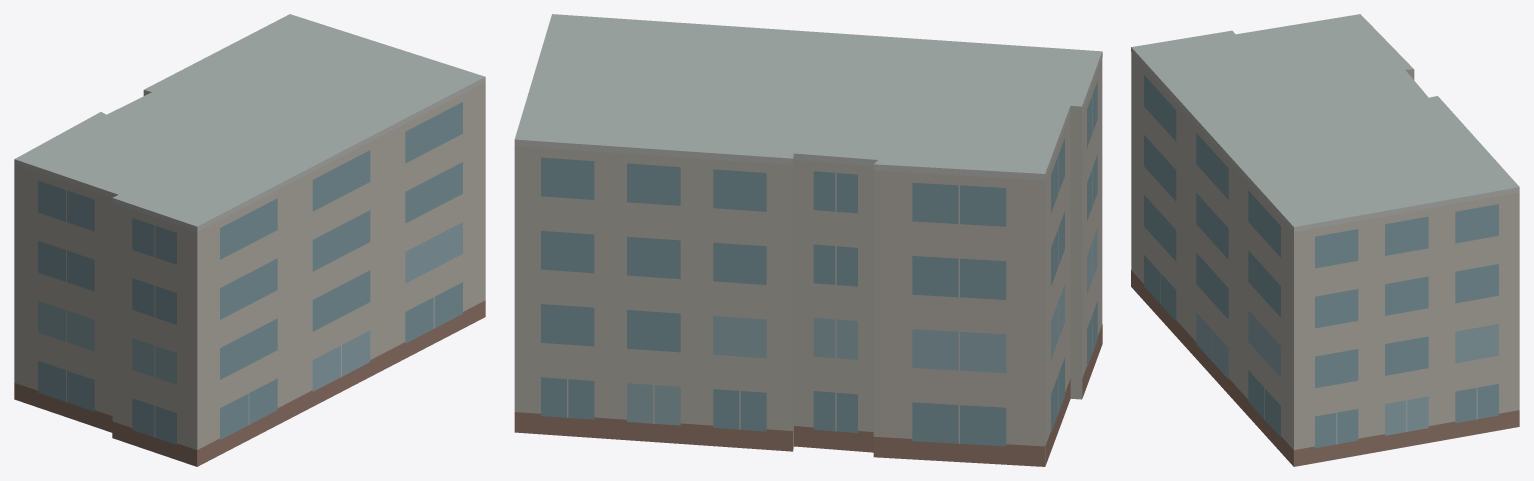
Rendered from survey-upis-32950819.glb.
The picture shows the model from 3 angles, left to right: view 1: azimuth 30°, elevation 25°; view 2: azimuth 150°, elevation 25°; view 3: azimuth 270°, elevation 25°; orthographic projection. The views are drawn at different scales.
Visible parts, largest first — view 1: survey-upis-32950819.tmp; view 2: survey-upis-32950819.tmp; view 3: survey-upis-32950819.tmp.
Boxes of the visible parts, x1=… form: survey-upis-32950819.tmp: x1=14, y1=14, x2=485, y2=466; survey-upis-32950819.tmp: x1=514, y1=14, x2=1102, y2=466; survey-upis-32950819.tmp: x1=1131, y1=14, x2=1519, y2=466.
Size of the model in its own units: 21.46 by 11.25 by 16.53.
